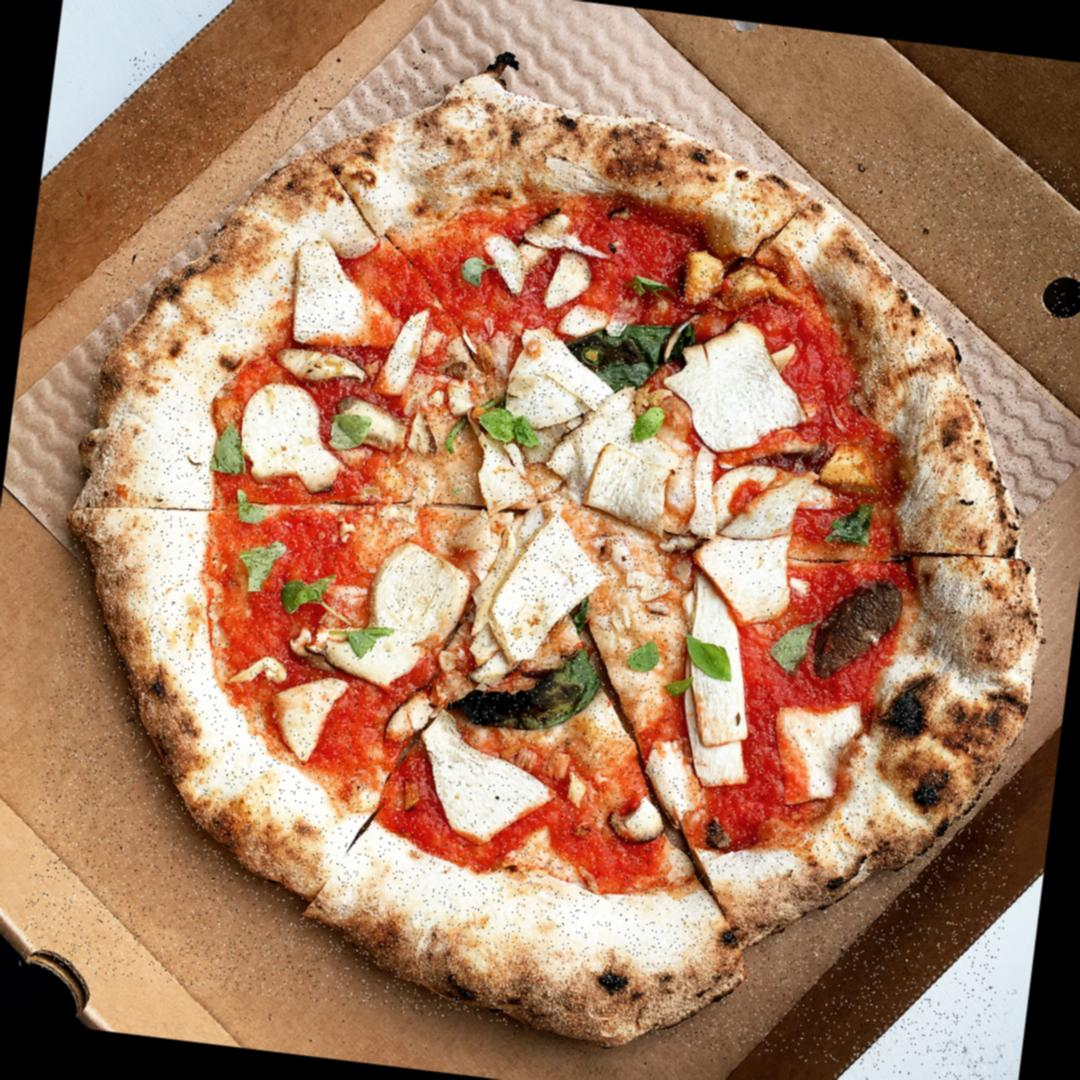Mushroom: (657, 311, 821, 458), (670, 576, 769, 783), (485, 524, 599, 674), (416, 733, 565, 847), (690, 458, 818, 588), (286, 238, 420, 361), (502, 335, 632, 447), (802, 566, 914, 694), (479, 206, 601, 310), (236, 380, 350, 491), (364, 542, 471, 646), (769, 698, 862, 800), (580, 443, 676, 538), (325, 386, 422, 468), (268, 674, 352, 764), (322, 631, 424, 690), (601, 787, 674, 851), (270, 347, 368, 392)
Pizza: (17, 46, 1080, 1080)
